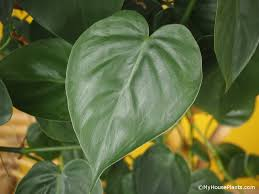leaf: (63, 7, 205, 191)
